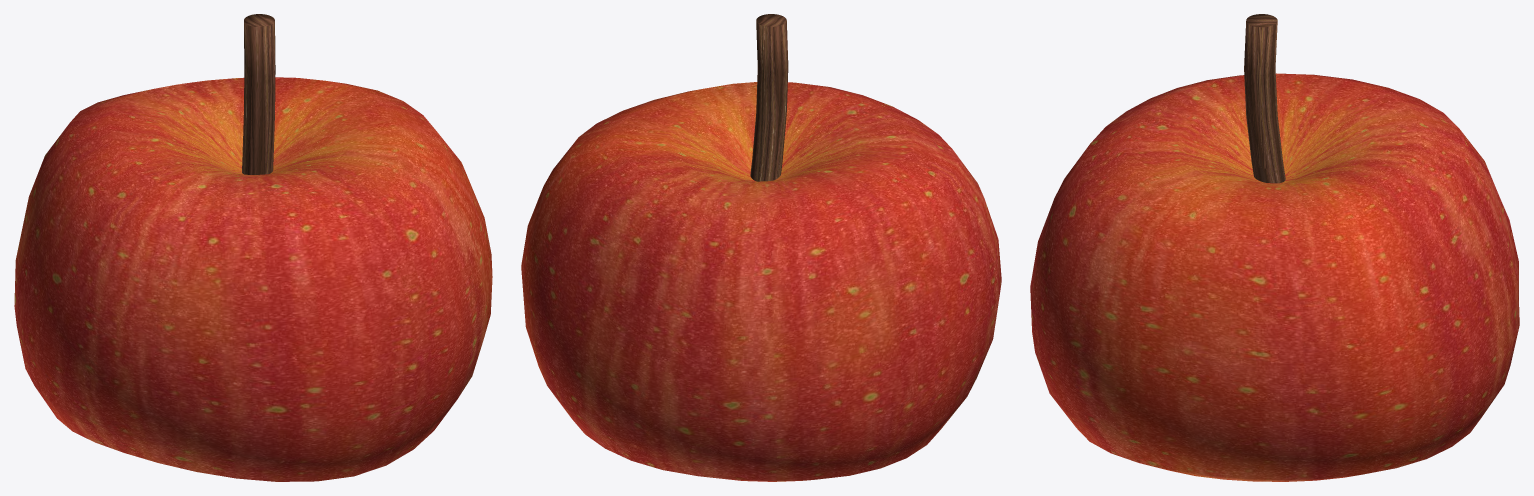
File: apple.fbx
3 renders of one model, left to right at view 1: azimuth 30°, elevation 25°; view 2: azimuth 150°, elevation 25°; view 3: azimuth 270°, elevation 25°, orthographic. The views are drawn at different scales.
Visible parts, largest first — view 1: Sphere; view 2: Sphere; view 3: Sphere.
Part boxes in pixels (x1,y1,x2,y2): Sphere: (14,14,492,481); Sphere: (521,14,1001,481); Sphere: (1030,14,1519,481).
Size of the model in its own units: 63.8 by 58.83 by 63.66.
2 materials, 2 textured.
